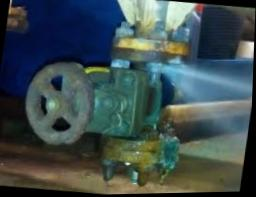leak: (162, 59, 254, 150)
